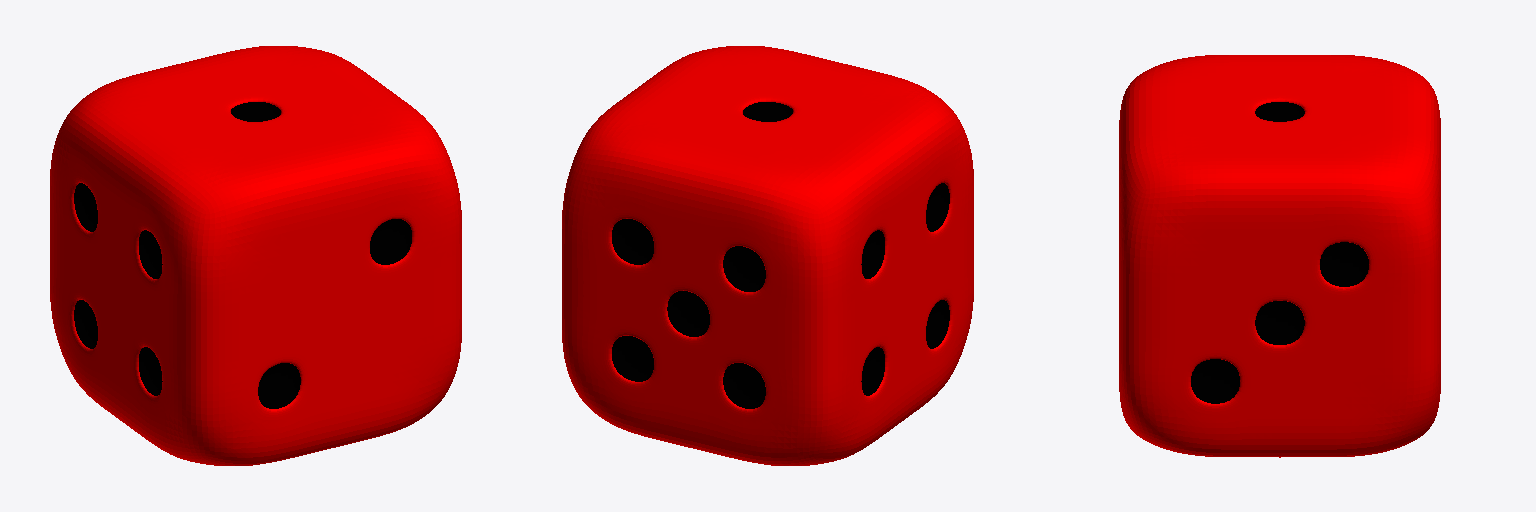
Rendered from dado.obj.
3 renders of one model, left to right at view 1: azimuth 30°, elevation 25°; view 2: azimuth 150°, elevation 25°; view 3: azimuth 270°, elevation 25°, orthographic.
Visible parts, largest first — view 1: Cube; view 2: Cube; view 3: Cube.
Part boxes in pixels (bbox=[...]): Cube: bbox=[50, 46, 461, 465]; Cube: bbox=[562, 46, 973, 465]; Cube: bbox=[1119, 55, 1440, 457].
Size of the model in its own units: 2 by 2 by 2.